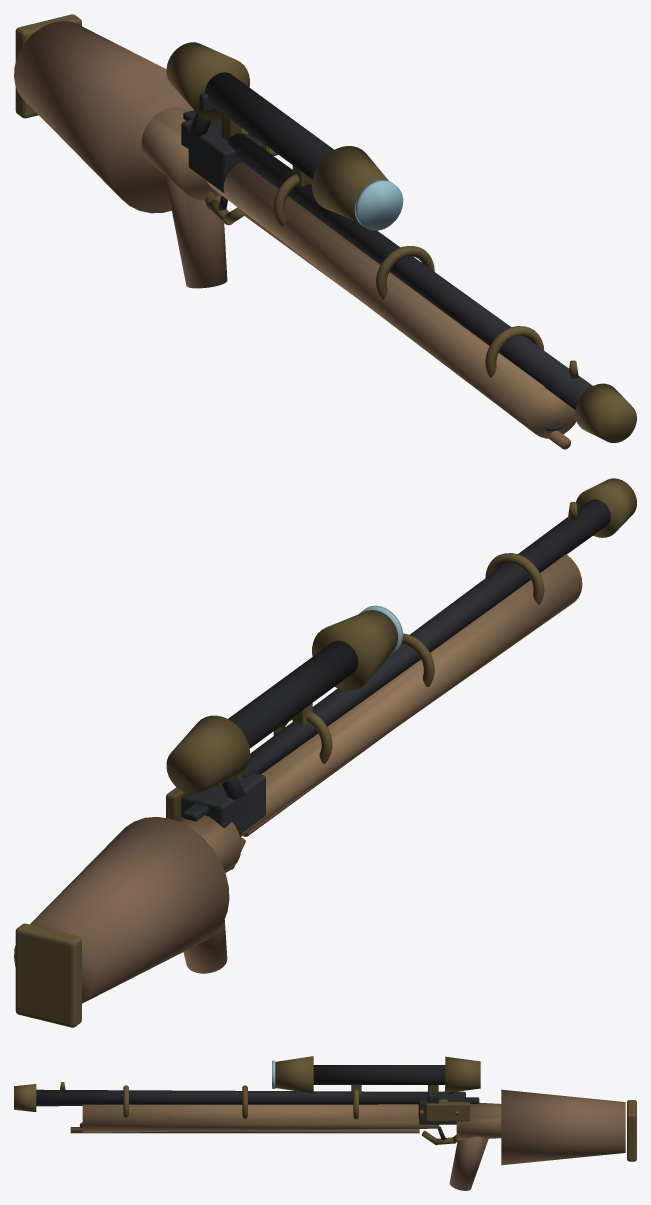
The model's file is eye_of_reach.b93d1bdd.glb.
The picture shows the model from 3 angles, top to bottom: view 1: azimuth 30°, elevation 25°; view 2: azimuth 150°, elevation 25°; view 3: azimuth 270°, elevation 25°; orthographic projection. The views are drawn at different scales.
Parts seen in each view (by area): view 1: eye_of_reach_body, scope, muzzle; view 2: eye_of_reach_body, scope, muzzle; view 3: eye_of_reach_body, scope, muzzle.
Boxes of the visible parts, bbox=[...] form: eye_of_reach_body: bbox=[14, 14, 592, 449]; scope: bbox=[166, 42, 403, 230]; muzzle: bbox=[575, 383, 636, 443]; eye_of_reach_body: bbox=[14, 499, 610, 1027]; scope: bbox=[166, 605, 403, 794]; muzzle: bbox=[576, 478, 636, 537]; eye_of_reach_body: bbox=[36, 1082, 636, 1190]; scope: bbox=[272, 1056, 480, 1094]; muzzle: bbox=[14, 1084, 36, 1111].
Bounding box in the file's own units: 0.2557 × 0.4856 × 2.11.
1 material, 1 textured.
